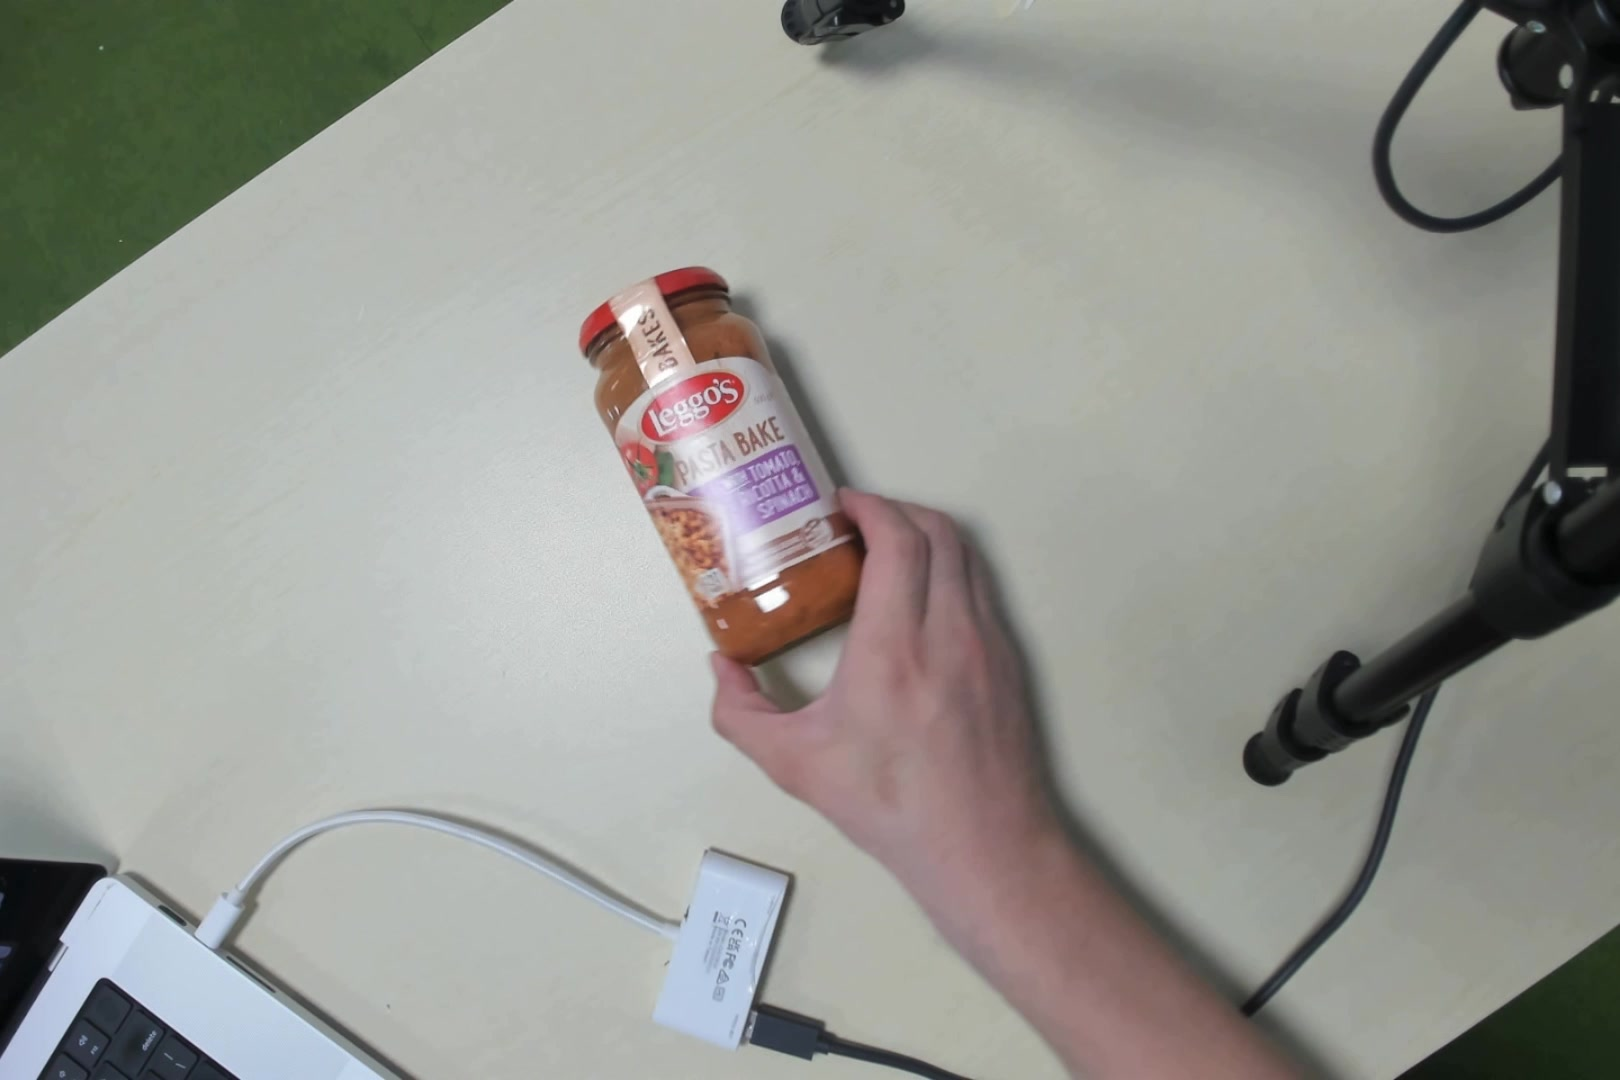Pasta_500-599g_Halal_NonHealthy: (614, 262, 834, 599)
